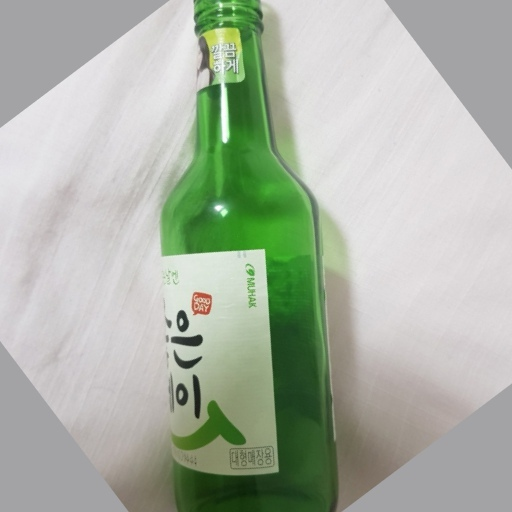Glass_0: (166, 1, 340, 512)
